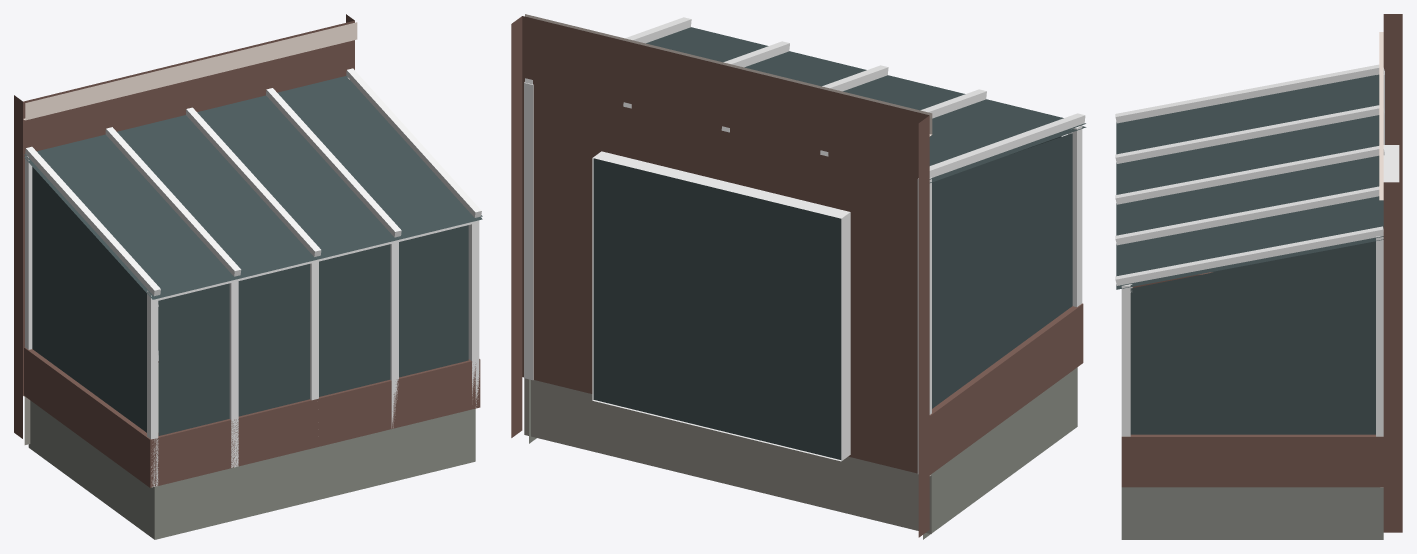
The model's file is base-stair.fbx.
3 renders of one model, left to right at view 1: azimuth 30°, elevation 25°; view 2: azimuth 150°, elevation 25°; view 3: azimuth 270°, elevation 25°, orthographic. The views are drawn at different scales.
Visible parts, largest first — view 1: a2000s3/600/base-stair; view 2: a2000s3/600/base-stair; view 3: a2000s3/600/base-stair.
Boxes of the visible parts, box(x1,y1,x2,y2) form: a2000s3/600/base-stair: box(14, 14, 482, 539); a2000s3/600/base-stair: box(511, 14, 1086, 539); a2000s3/600/base-stair: box(1115, 14, 1402, 539).
Size of the model in its own units: 3.6 by 3.6 by 2.6.
